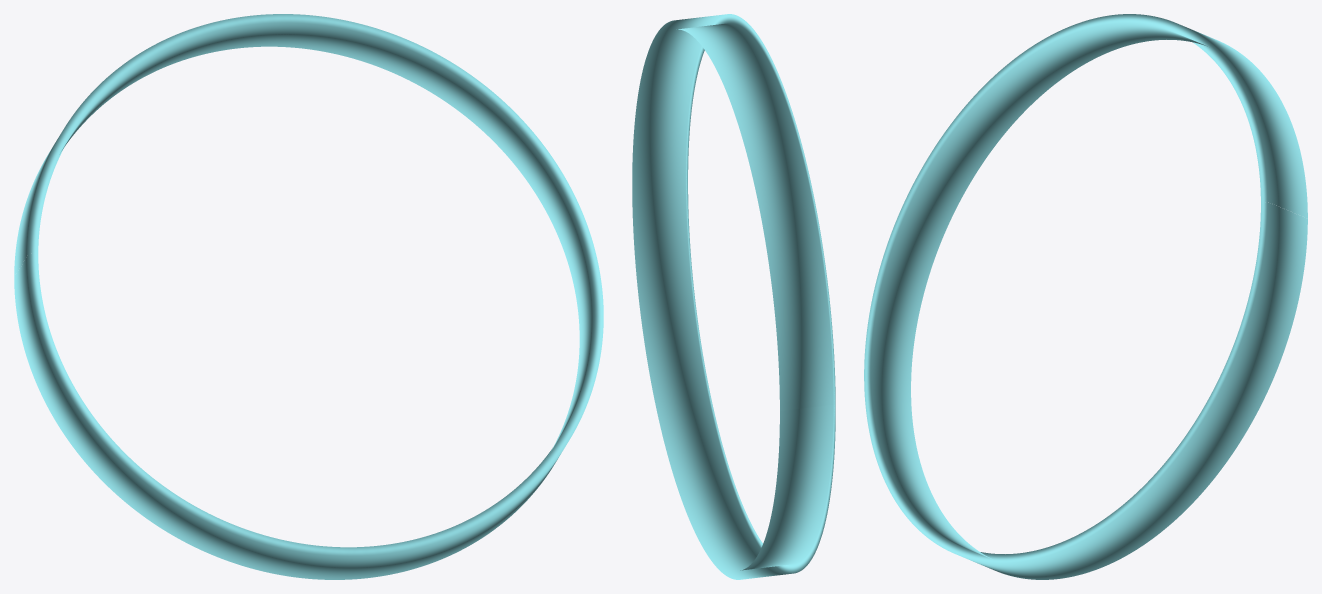
The model's file is coil_coil_1_tube.gltf.
3 views of the same model, side by side, from view 1: azimuth 30°, elevation 25°; view 2: azimuth 150°, elevation 25°; view 3: azimuth 270°, elevation 25° (orthographic). The views are drawn at different scales.
Visible parts, largest first — view 1: Renderer Node; view 2: Renderer Node; view 3: Renderer Node.
Part boxes in pixels (box(x1,y1,x2,y2)): Renderer Node: box(14, 14, 603, 579); Renderer Node: box(632, 14, 835, 579); Renderer Node: box(864, 14, 1307, 579).
Size of the model in its own units: 0.4769 by 0.6101 by 0.4706.
